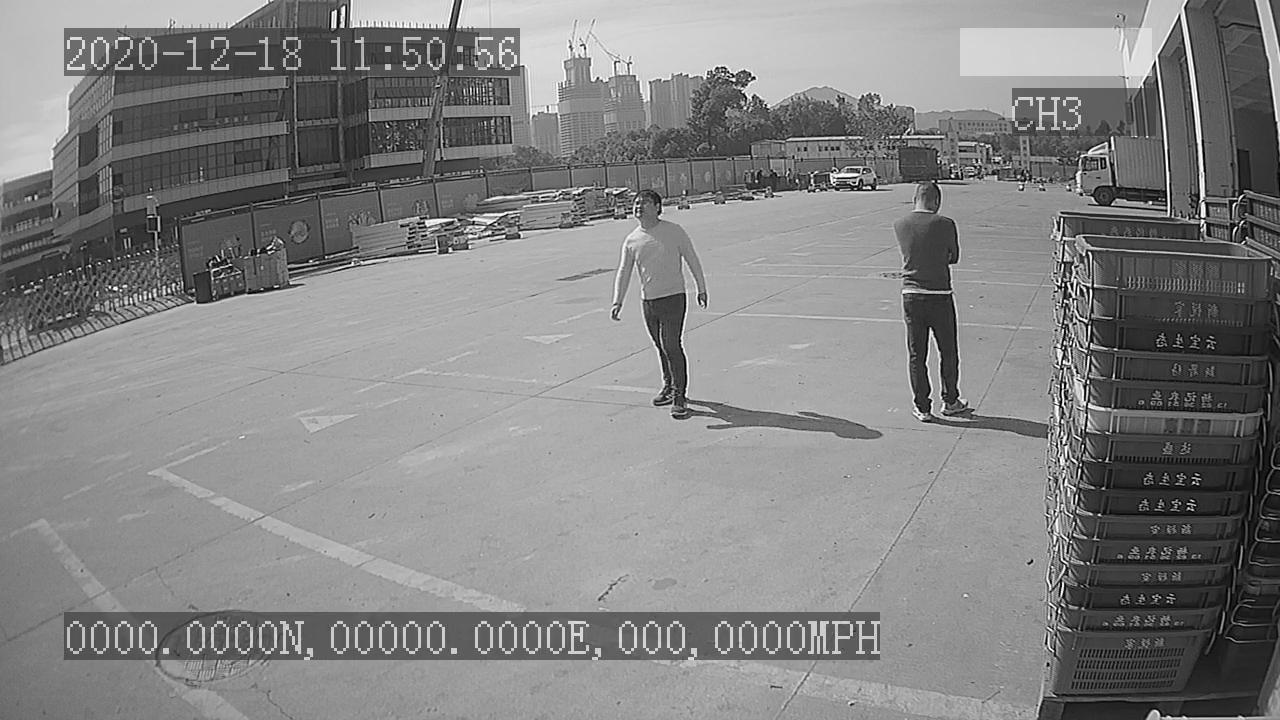person: (602, 186, 713, 422), (888, 177, 974, 427)
